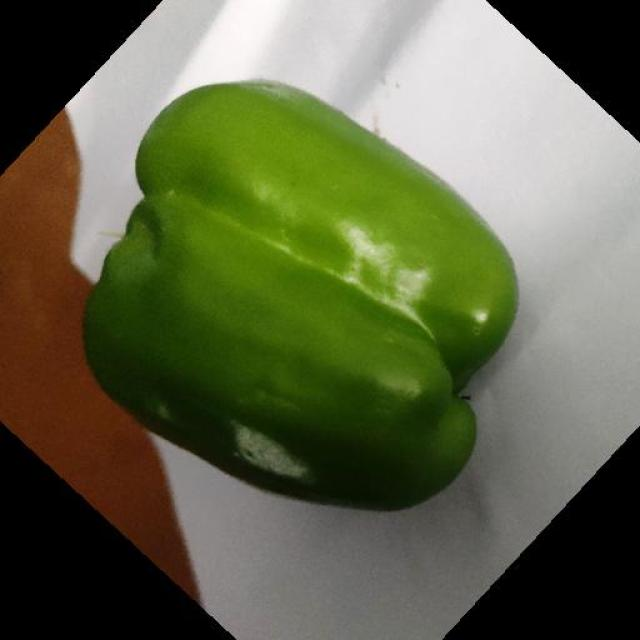Stale_Capsicum: (81, 256, 394, 529)
